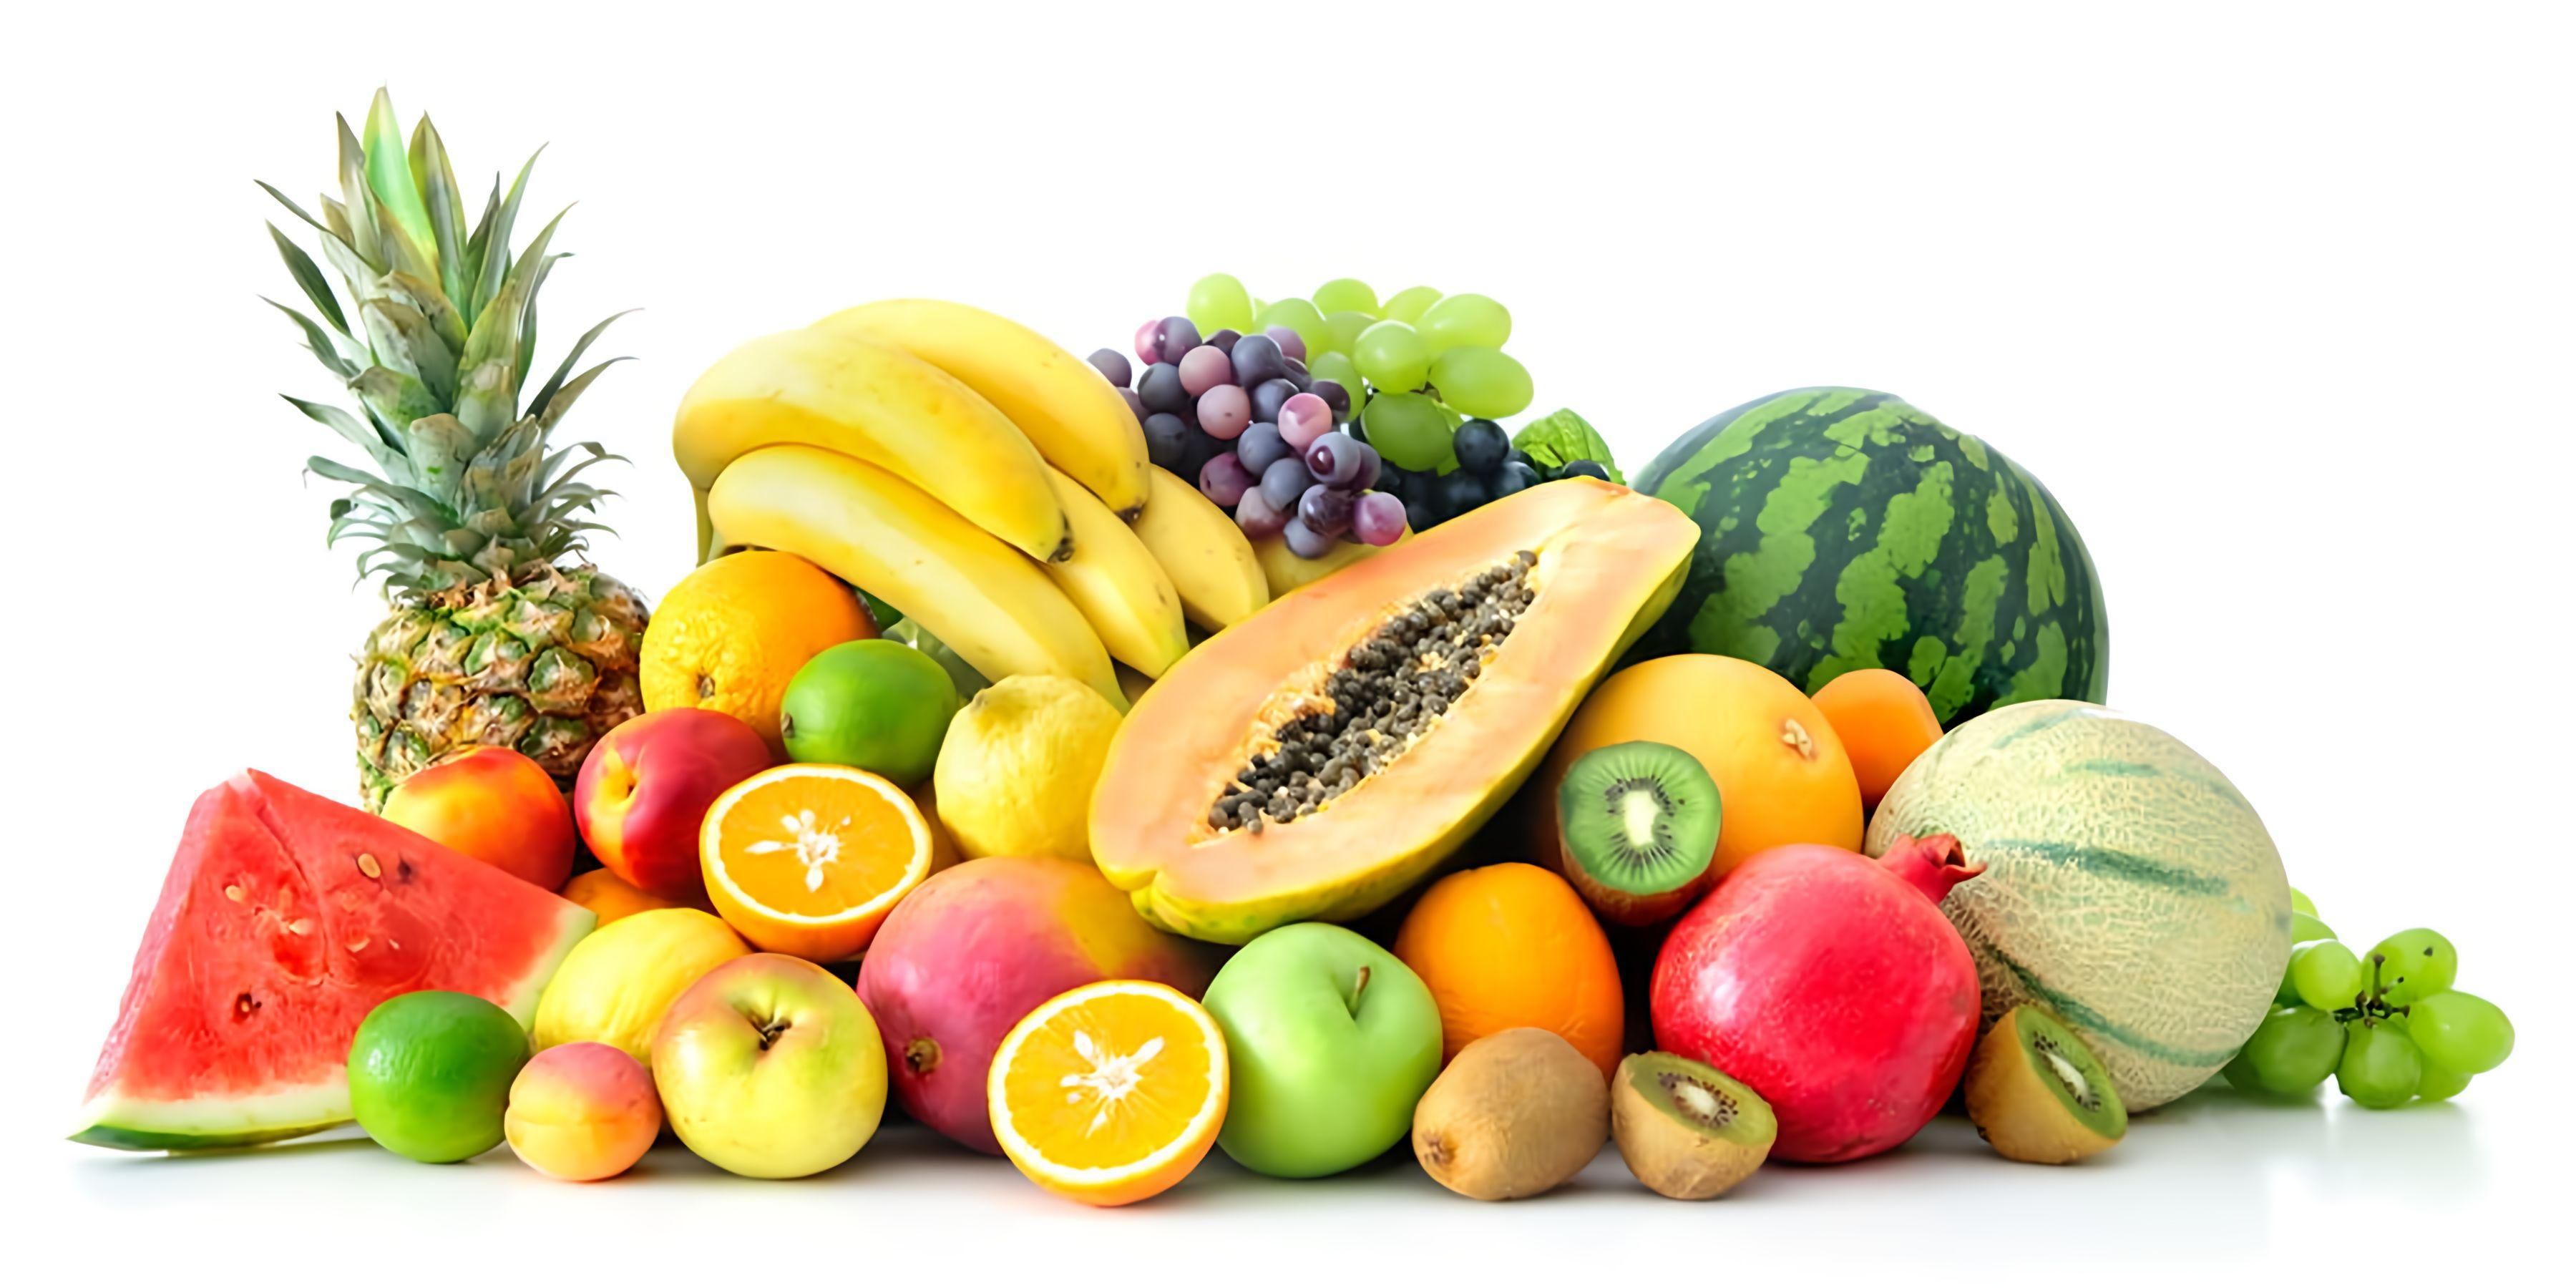apple: (646, 950, 889, 1186)
grape: (665, 286, 1268, 678), (1094, 263, 1626, 552), (2290, 887, 2515, 1119)
kiwi: (1416, 1025, 1615, 1214), (1556, 739, 1723, 912), (1615, 1045, 1787, 1203), (1985, 999, 2126, 1180)
lime: (343, 981, 521, 1168), (780, 639, 951, 780)
orange: (991, 977, 1235, 1224), (1403, 864, 1649, 1073), (1620, 655, 1884, 848), (703, 759, 936, 943), (651, 550, 830, 726)
papaya: (1066, 480, 1695, 923)
pineapple: (212, 76, 660, 728)
watermelon: (76, 756, 593, 1199), (1659, 376, 2150, 697)
